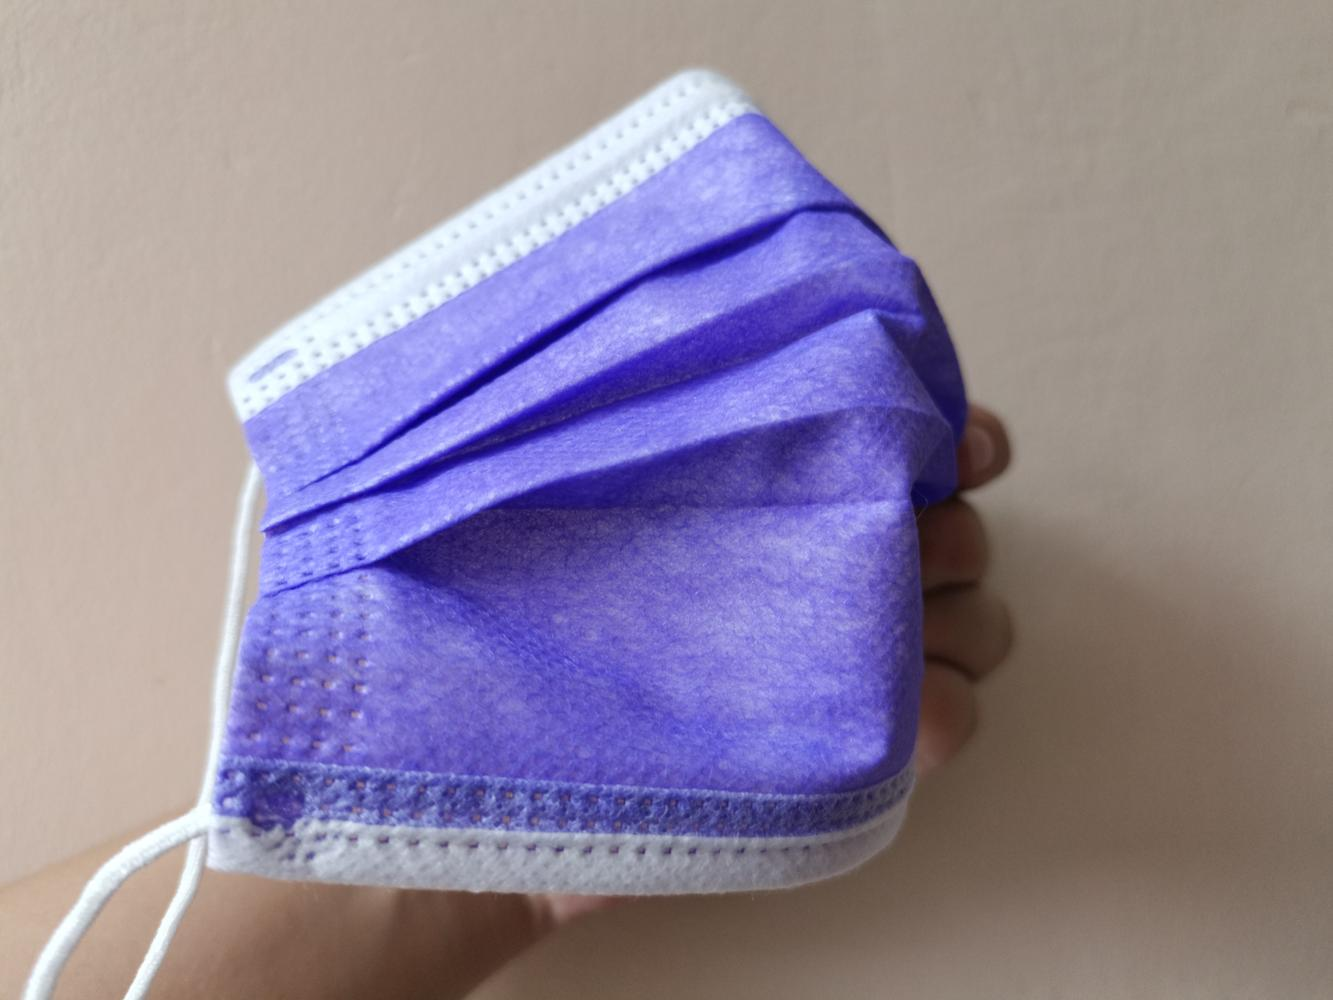Facemask: (181, 89, 1099, 912)
Undefined Object: (858, 373, 1113, 813)
